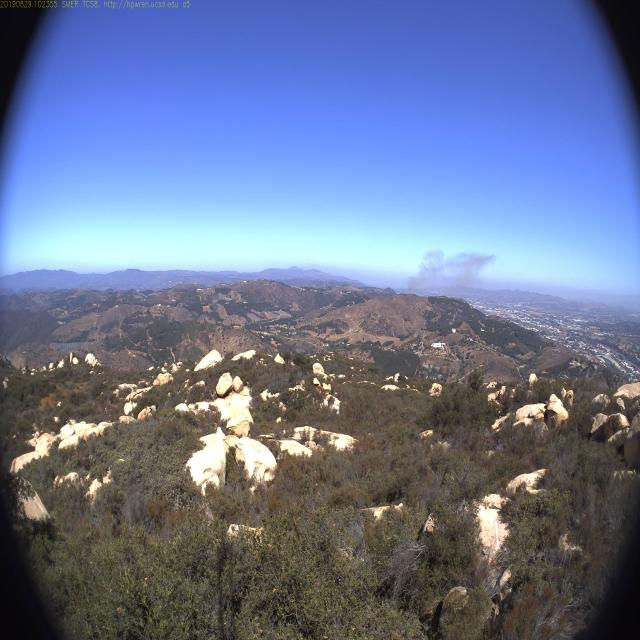smoke: (398, 248, 488, 314)
